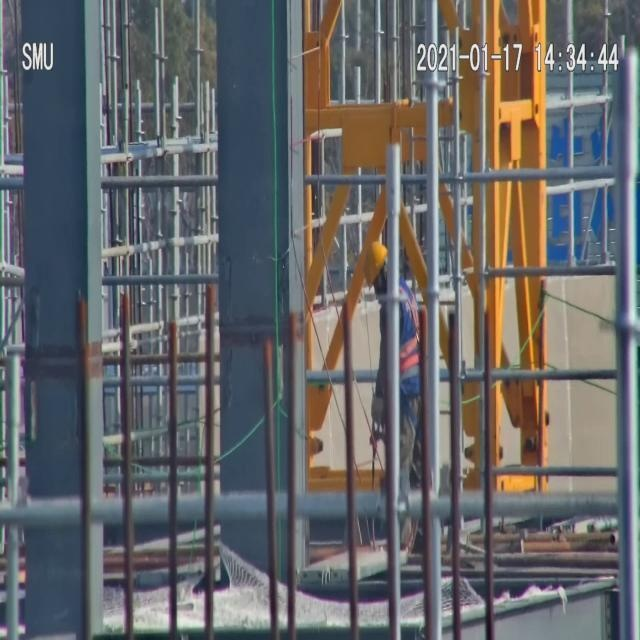Arnes_seguridad: (396, 279, 423, 389)
